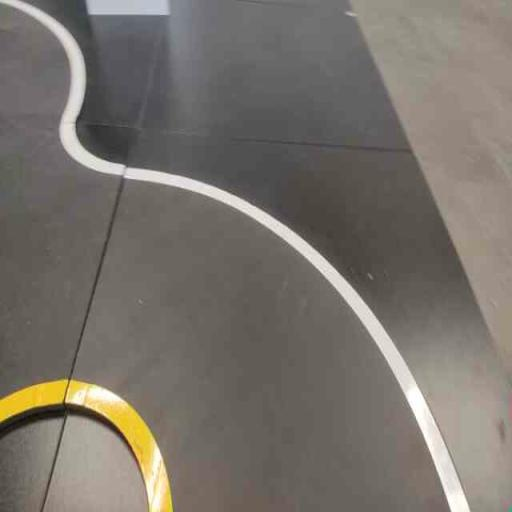left: (59, 145, 490, 511)
